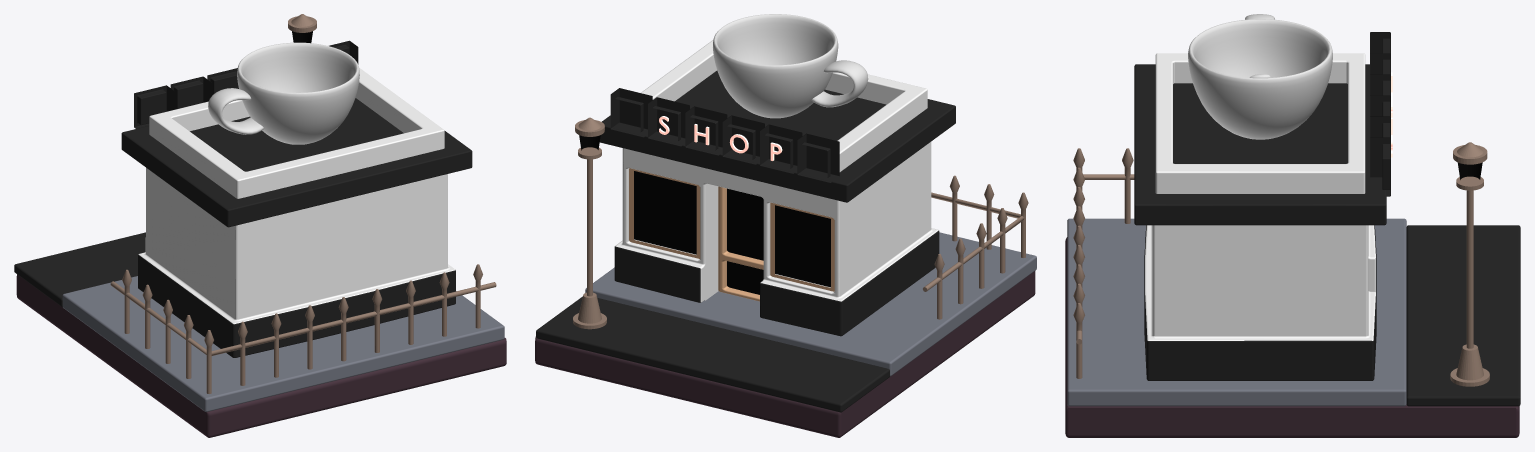
Rendered from shop-coffee-b_night.glb.
The picture shows the model from 3 angles, left to right: view 1: azimuth 30°, elevation 25°; view 2: azimuth 150°, elevation 25°; view 3: azimuth 270°, elevation 25°; orthographic projection. The views are drawn at different scales.
Visible parts, largest first — view 1: Plane.004_21, Plane.002_2, Plane.005_7, Plane_0, Plane.006_8, Circle_3, Plane.010_23, Plane.001_1, Plane.009_22, Circle.001_4, Plane.015_20, Plane.014_18 (+2 smaller); view 2: Plane.004_21, Plane.001_1, Plane.002_2, Plane.005_7, Plane_0, Circle_3, Plane.006_8, Plane.010_23, Circle.002_24, Plane.007_9, Plane.015_20, Plane.008_10 (+8 smaller); view 3: Plane.004_21, Plane.002_2, Plane.005_7, Plane.001_1, Plane_0, Circle_3, Plane.006_8, Circle.002_24, Plane.010_23, Plane.003_6, Plane.011_12, Plane.012_14 (+3 smaller).
Boxes of the visible parts, bbox=[...] form: Plane.004_21: bbox=[138, 168, 455, 357]; Plane.002_2: bbox=[62, 276, 504, 411]; Plane.005_7: bbox=[121, 98, 472, 227]; Plane_0: bbox=[16, 274, 506, 437]; Plane.006_8: bbox=[149, 68, 444, 198]; Circle_3: bbox=[237, 42, 359, 144]; Plane.010_23: bbox=[122, 264, 482, 393]; Plane.001_1: bbox=[14, 232, 145, 306]; Plane.009_22: bbox=[110, 281, 496, 355]; Circle.001_4: bbox=[208, 88, 263, 134]; Plane.015_20: bbox=[134, 85, 175, 128]; Plane.014_18: bbox=[170, 76, 211, 109]; Plane.004_21: bbox=[614, 142, 939, 336]; Plane.001_1: bbox=[536, 296, 889, 412]; Plane.002_2: bbox=[585, 232, 1036, 376]; Plane.005_7: bbox=[599, 70, 955, 202]; Plane_0: bbox=[535, 271, 1035, 437]; Circle_3: bbox=[713, 14, 838, 118]; Plane.006_8: bbox=[641, 40, 927, 171]; Plane.010_23: bbox=[934, 175, 1028, 319]; Circle.002_24: bbox=[573, 117, 606, 329]; Plane.007_9: bbox=[629, 168, 834, 291]; Plane.015_20: bbox=[797, 133, 839, 182]; Plane.008_10: bbox=[718, 186, 763, 301]; Plane.004_21: bbox=[1144, 225, 1376, 380]; Plane.002_2: bbox=[1067, 218, 1406, 406]; Plane.005_7: bbox=[1134, 64, 1386, 225]; Plane.001_1: bbox=[1406, 225, 1520, 406]; Plane_0: bbox=[1065, 237, 1519, 437]; Circle_3: bbox=[1188, 19, 1332, 139]; Plane.006_8: bbox=[1155, 53, 1365, 193]; Circle.002_24: bbox=[1450, 142, 1489, 386]; Plane.010_23: bbox=[1073, 148, 1133, 378]; Plane.003_6: bbox=[1370, 137, 1390, 196]; Plane.011_12: bbox=[1370, 116, 1390, 137]; Plane.012_14: bbox=[1370, 95, 1390, 116].
Bounding box in the file's own units: 8.05 × 6.86 × 8.91.
